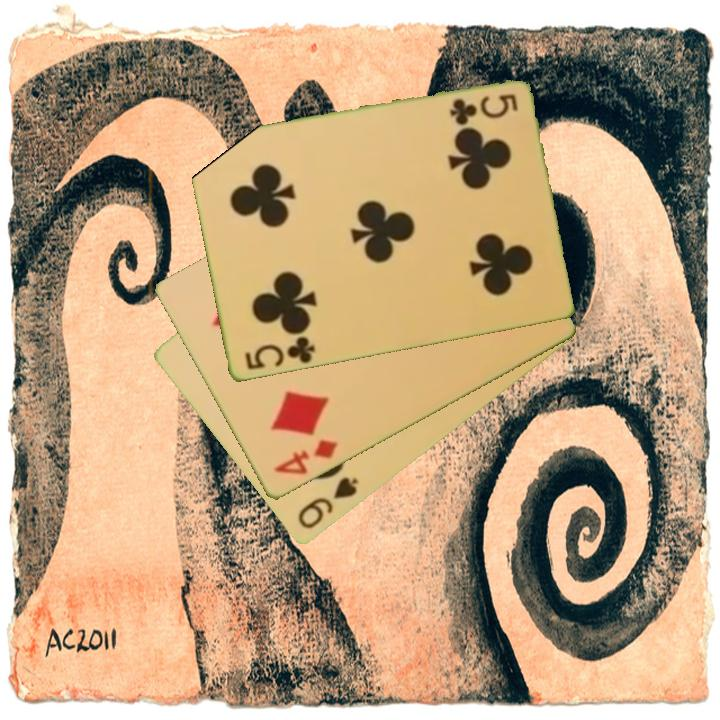4d: (270, 436, 341, 479)
5c: (241, 333, 318, 373), (446, 91, 521, 127)
9s: (294, 474, 361, 533)
